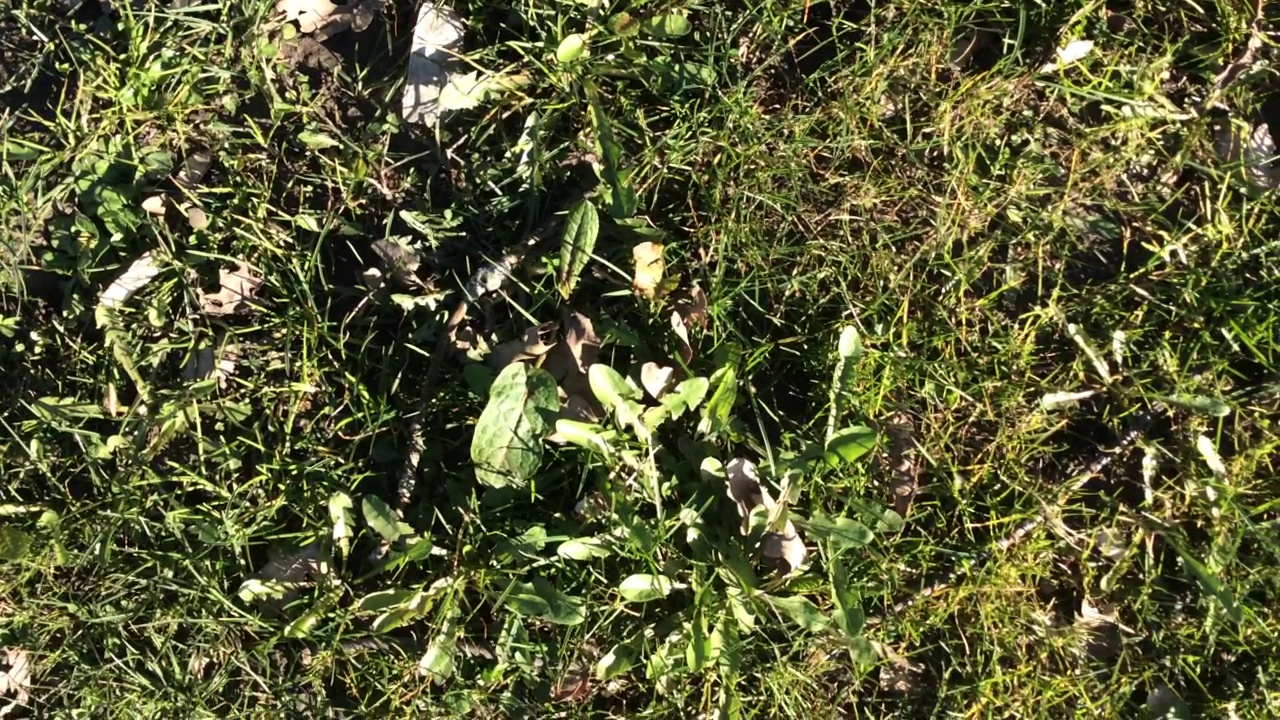rumex: (469, 362, 559, 499), (558, 199, 602, 298)
